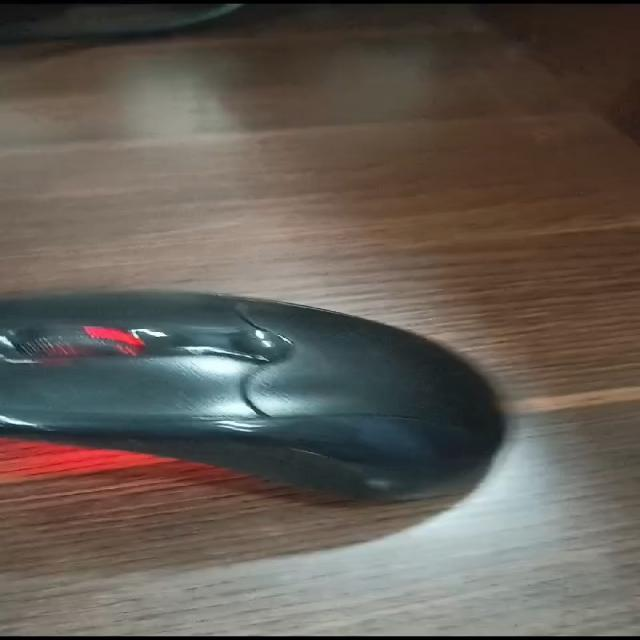Mouse: (0, 274, 518, 534), (12, 240, 19, 242)
